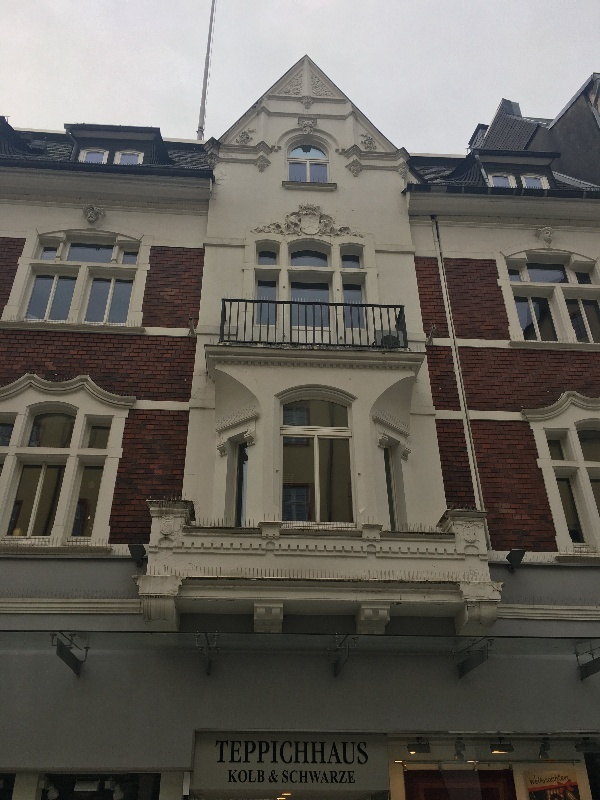text: (353, 740, 369, 766), (225, 740, 240, 766), (241, 740, 256, 766), (257, 740, 272, 766), (273, 740, 288, 766), (289, 740, 304, 766), (305, 740, 320, 766), (321, 740, 336, 766), (337, 740, 352, 766), (215, 740, 224, 766), (289, 771, 304, 784), (305, 771, 320, 784), (321, 771, 336, 784), (337, 771, 352, 784), (529, 773, 544, 786), (545, 773, 560, 786), (241, 771, 256, 783), (228, 771, 240, 783), (561, 773, 570, 786), (257, 771, 265, 783), (273, 770, 278, 783), (283, 771, 288, 784), (269, 770, 272, 783), (353, 771, 355, 784)
